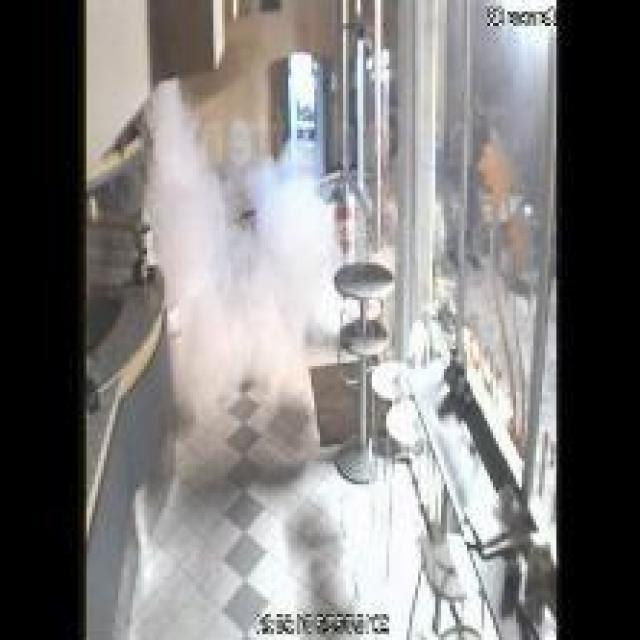fire: (142, 80, 240, 422), (246, 134, 348, 405)
